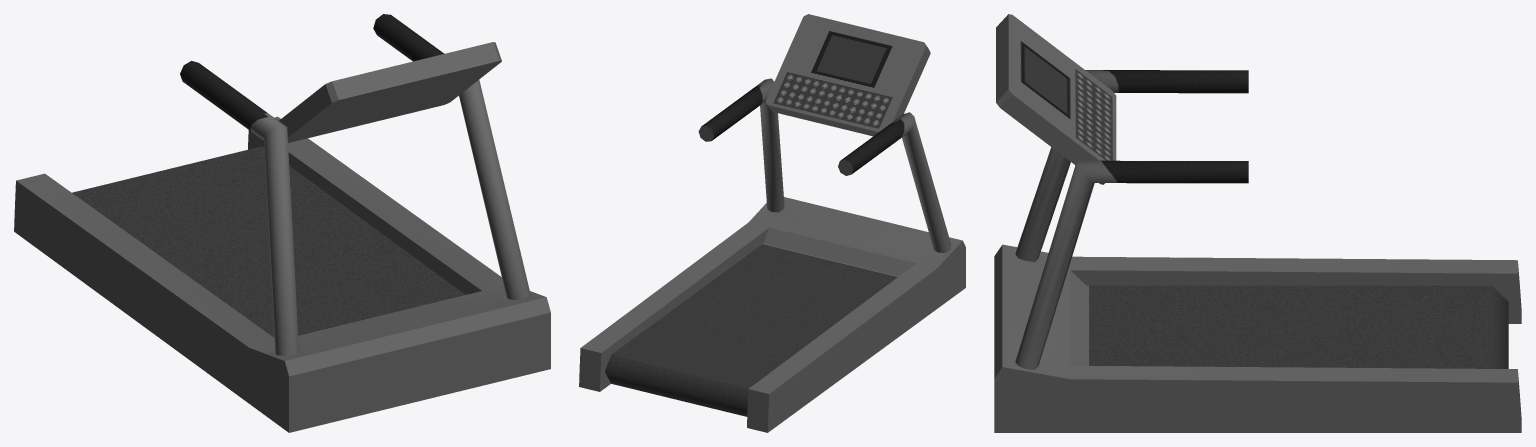
File: treadmill.FBX
The picture shows the model from 3 angles, left to right: view 1: azimuth 30°, elevation 25°; view 2: azimuth 150°, elevation 25°; view 3: azimuth 270°, elevation 25°; orthographic projection. The views are drawn at different scales.
Visible parts, largest first — view 1: Box002; view 2: Box002; view 3: Box002.
Part boxes in pixels (left/top/right/bottom): Box002: left=14, top=14, right=550, bottom=432; Box002: left=579, top=14, right=965, bottom=432; Box002: left=994, top=14, right=1521, bottom=432.
Bounding box in the file's own units: 117 × 143 × 214.
